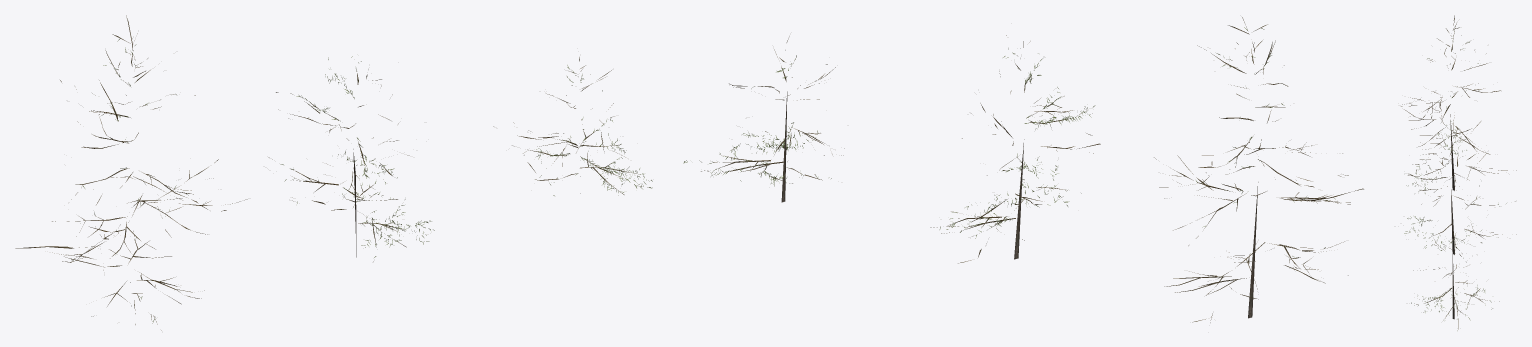
Rendered from fir_sapling_far.glb.
The picture shows the model from 3 angles, left to right: view 1: azimuth 30°, elevation 25°; view 2: azimuth 150°, elevation 25°; view 3: azimuth 270°, elevation 25°; orthographic projection. The views are drawn at different scales.
Parts seen in each view (by area): view 1: fir_sapling_a, fir_sapling_b, fir_sapling_c; view 2: fir_sapling_a, fir_sapling_b, fir_sapling_c; view 3: fir_sapling_a, fir_sapling_b, fir_sapling_c.
Boxes of the visible parts, x1,y1,x2,y2 form: fir_sapling_a: (15,15,247,330); fir_sapling_b: (268,56,434,261); fir_sapling_c: (493,57,652,195); fir_sapling_a: (1154,17,1363,322); fir_sapling_b: (930,35,1100,263); fir_sapling_c: (683,36,844,202); fir_sapling_a: (1401,15,1516,190); fir_sapling_b: (1404,129,1516,254); fir_sapling_c: (1411,223,1499,330).
Bounding box in the file's own units: 2.72 × 1.27 × 0.808.
Materials: 2 (2 with a texture image).
